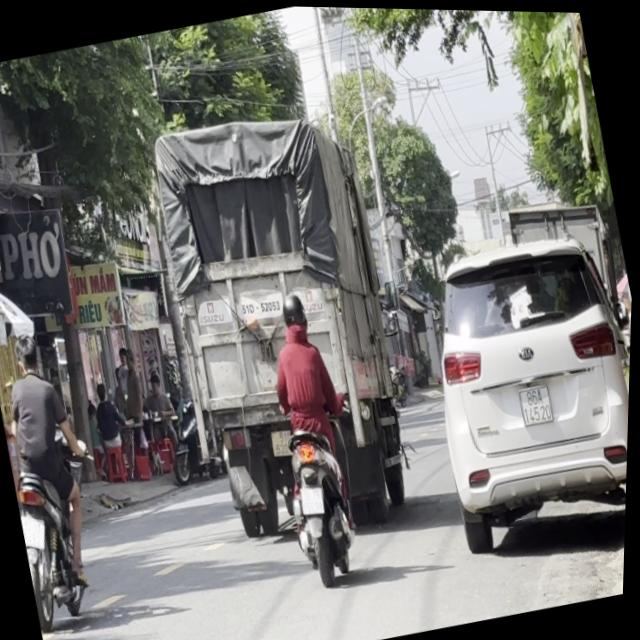helmet: (276, 287, 312, 340)
licenseplate: (245, 281, 382, 586), (0, 322, 117, 631)
motorcyclist: (11, 330, 44, 376)
nohelmet: (21, 511, 51, 550), (300, 481, 327, 514)
